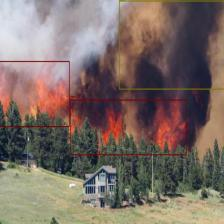fire: (70, 99, 187, 155), (0, 61, 69, 126)
smoke: (118, 0, 224, 89)
